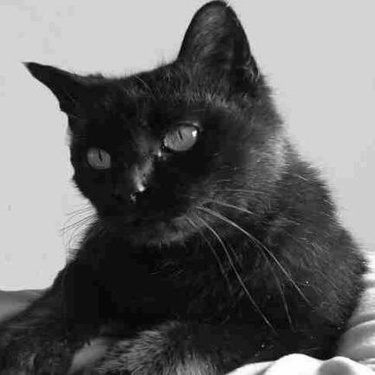cat: (1, 1, 365, 371)
